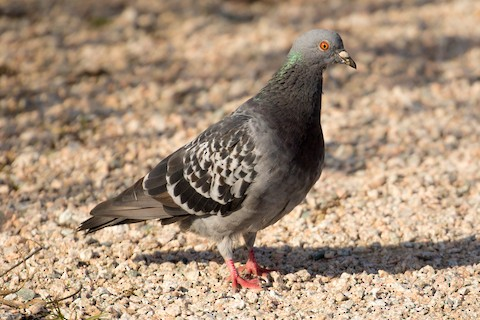pigeon: (74, 23, 361, 297)
